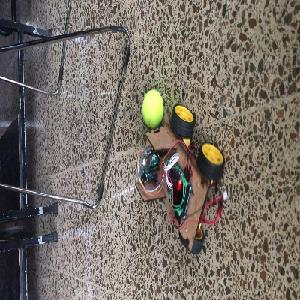Ball: (142, 90, 164, 128)
Robot: (134, 103, 224, 254)
